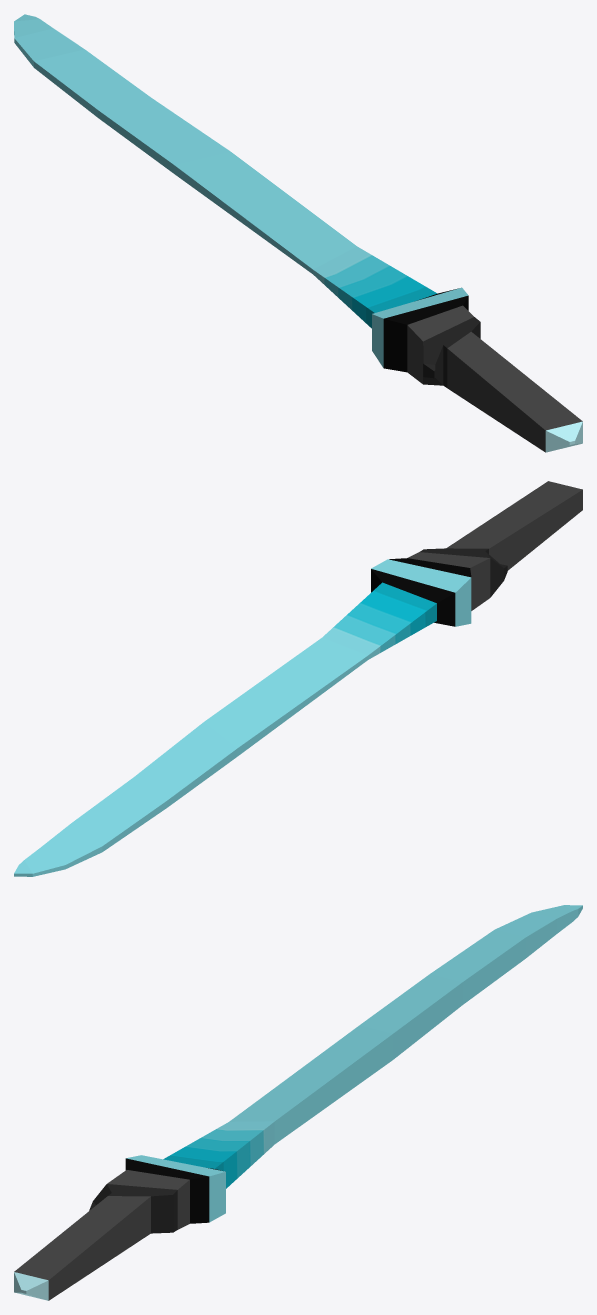
The model's file is 7-Sword.fbx.
3 renders of one model, top to bottom at view 1: azimuth 30°, elevation 25°; view 2: azimuth 150°, elevation 25°; view 3: azimuth 330°, elevation 25°, orthographic. The views are drawn at different scales.
Parts seen in each view (by area): view 1: Sword7; view 2: Sword7; view 3: Sword7.
Boxes of the visible parts, left/top/right/bottom form: Sword7: left=14, top=14, right=582, bottom=452; Sword7: left=14, top=481, right=582, bottom=876; Sword7: left=14, top=905, right=582, bottom=1300.
Bounding box in the file's own units: 48.35 × 24.61 × 515.
